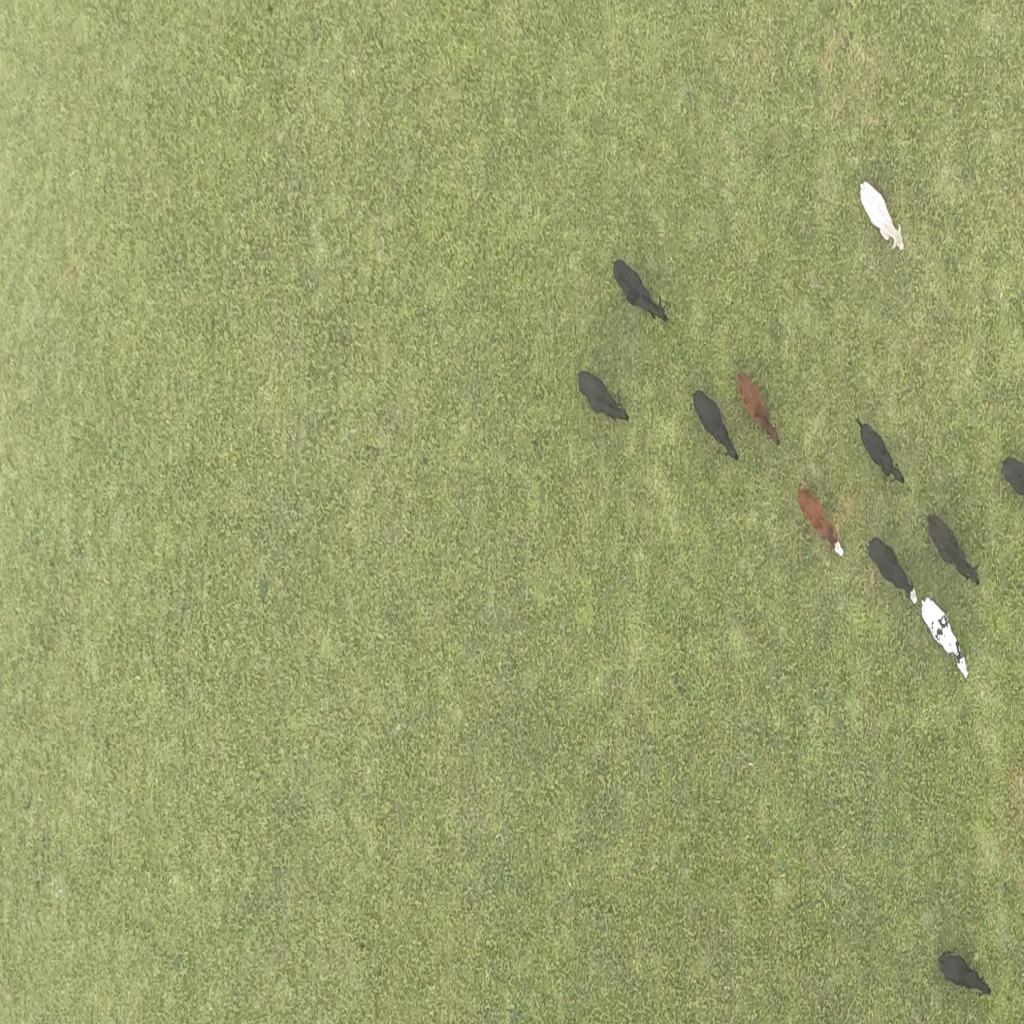cow: (920, 594, 970, 681), (610, 256, 670, 328), (925, 513, 981, 586), (857, 177, 907, 256), (868, 536, 918, 605), (735, 372, 781, 446), (692, 390, 739, 462), (797, 486, 842, 558), (858, 418, 906, 485), (935, 947, 992, 1001), (577, 370, 629, 423)
